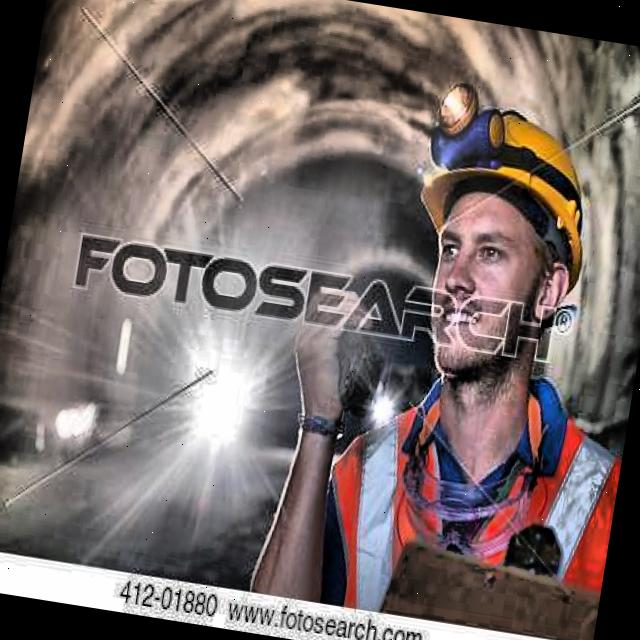helmet: (372, 69, 620, 417)
